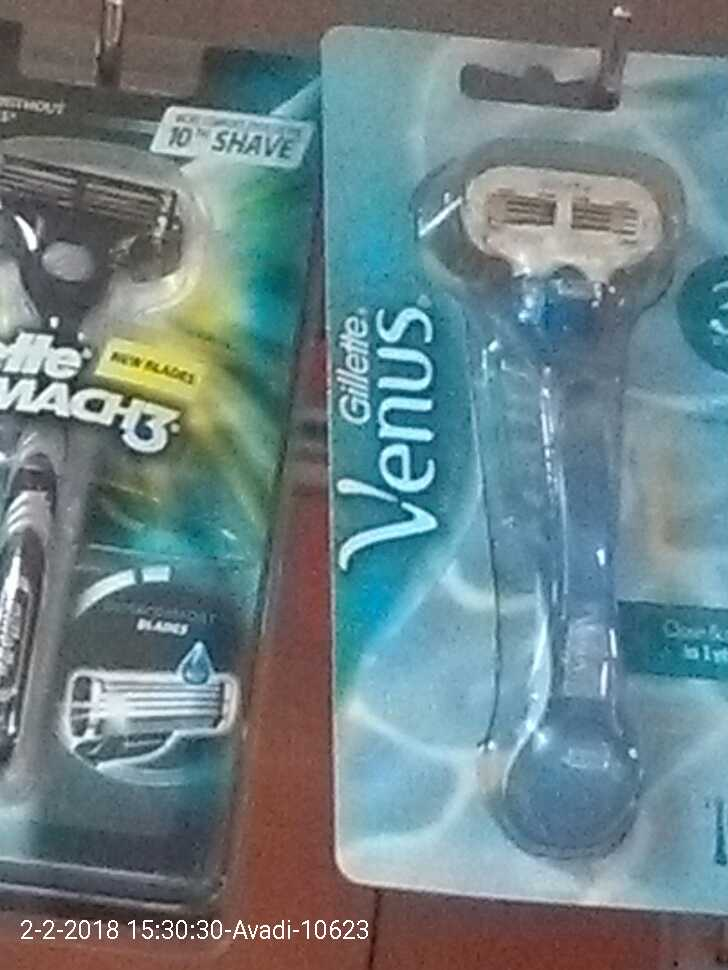beauty: (328, 33, 728, 880), (1, 28, 320, 913)
